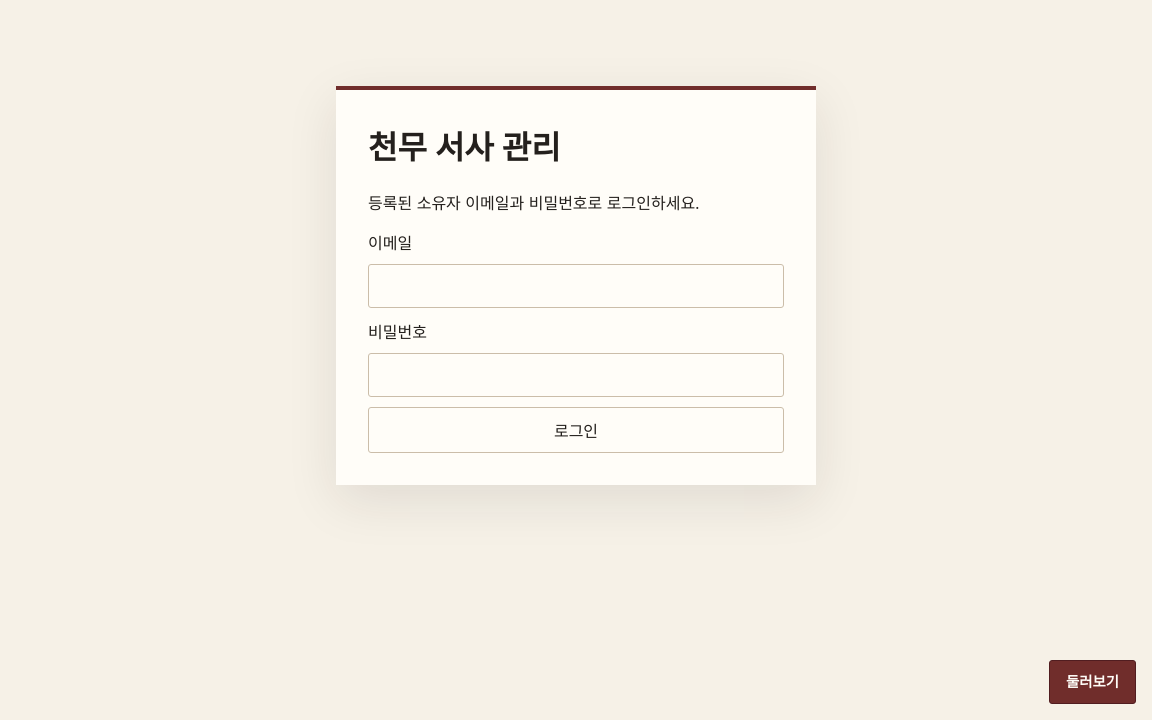
it: AdminApp local preview composition › shows and enters preview with explicitly injected preview auth and API
The width and height of the screenshot is (1152, 720).
What coordinates should you click on to do the following:
click the button "둘러보기"
I would click on:
 (1092, 682)
Its box is [1049,660,1136,704].
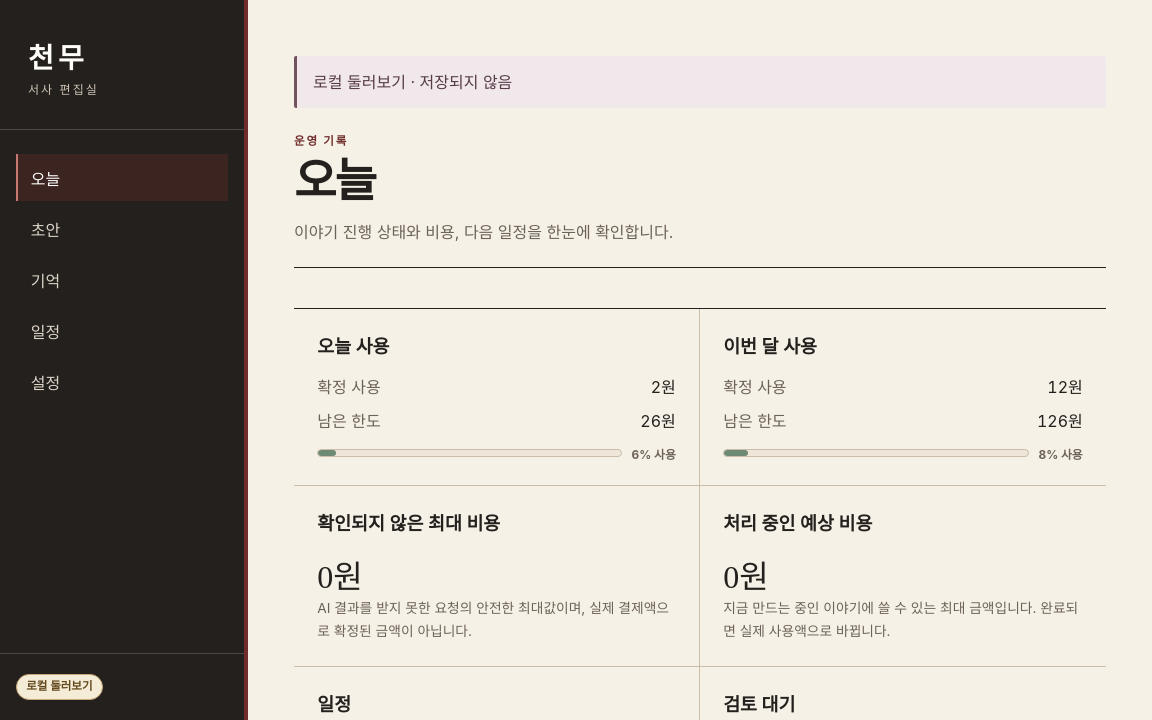
Now the text "로컬 둘러보기 · 저장되지 않음" is shown, box [313,70,512,94]
Now the text labelled "이메일" is gone
